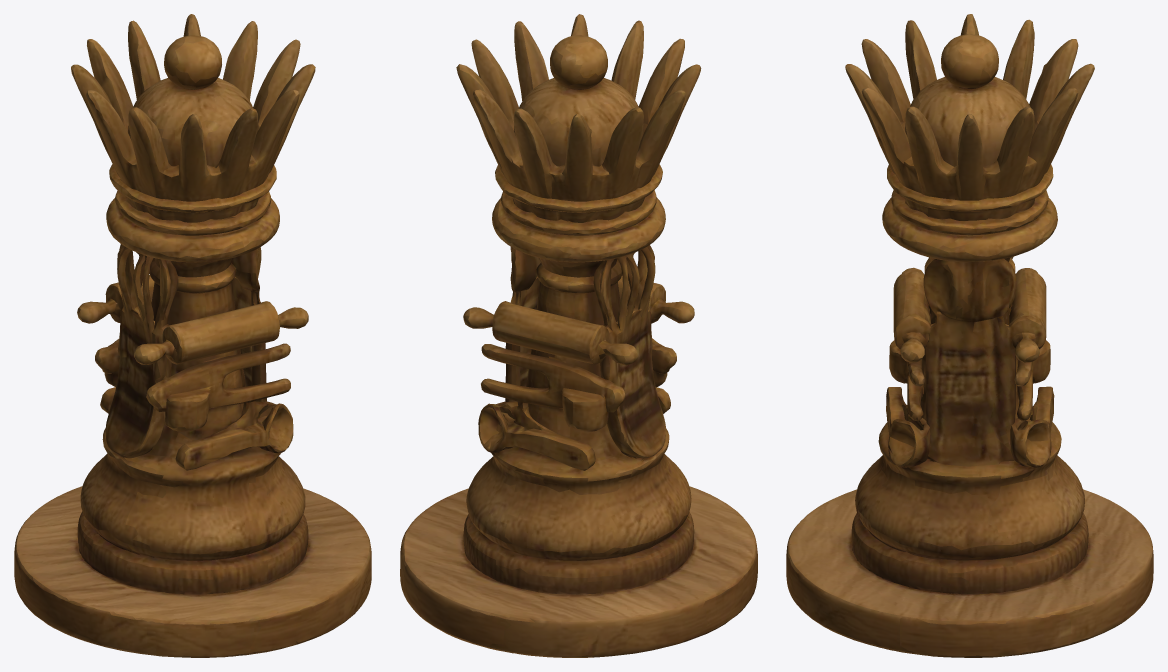
3 renders of one model, left to right at view 1: azimuth 30°, elevation 25°; view 2: azimuth 150°, elevation 25°; view 3: azimuth 270°, elevation 25°, orthographic.
Visible parts, largest first — view 1: world; view 2: world; view 3: world.
Part boxes in pixels (bbox=[...]): world: bbox=[14, 14, 371, 657]; world: bbox=[400, 14, 757, 657]; world: bbox=[786, 14, 1153, 657].
Bounding box in the file's own units: 0.285 × 0.48 × 0.2922.
Materials: 1 (1 with a texture image).
